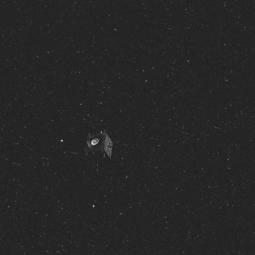smart_1: (67, 117, 118, 180)
